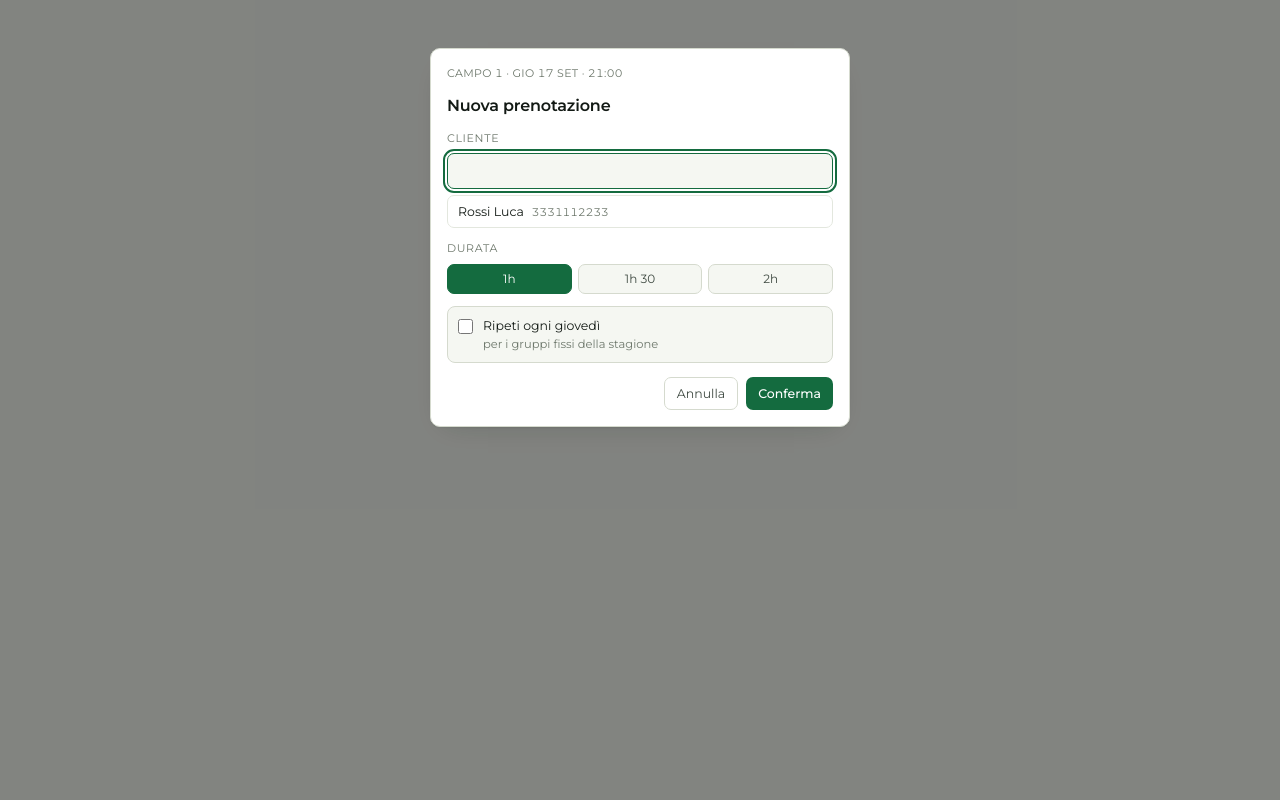
NewBookingDialog — riconoscere chi telefona › scegliendo un cliente mostra la sua scheda
The image size is (1280, 800).
Type "Rossi" into the field labelled "Cliente". click: [640, 171]
box: [447, 153, 833, 189]
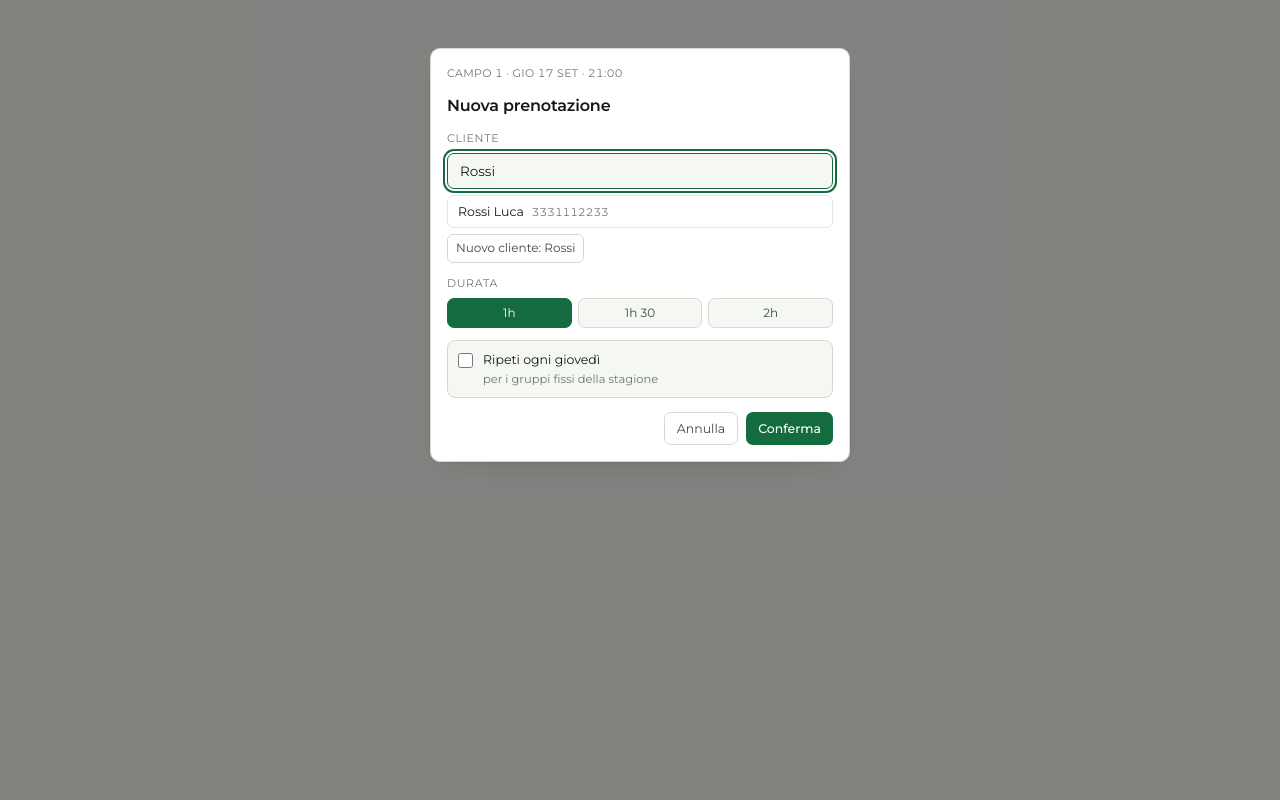
Click the button "Rossi Luca 3331112233". click: [491, 212]
box: [448, 196, 832, 228]
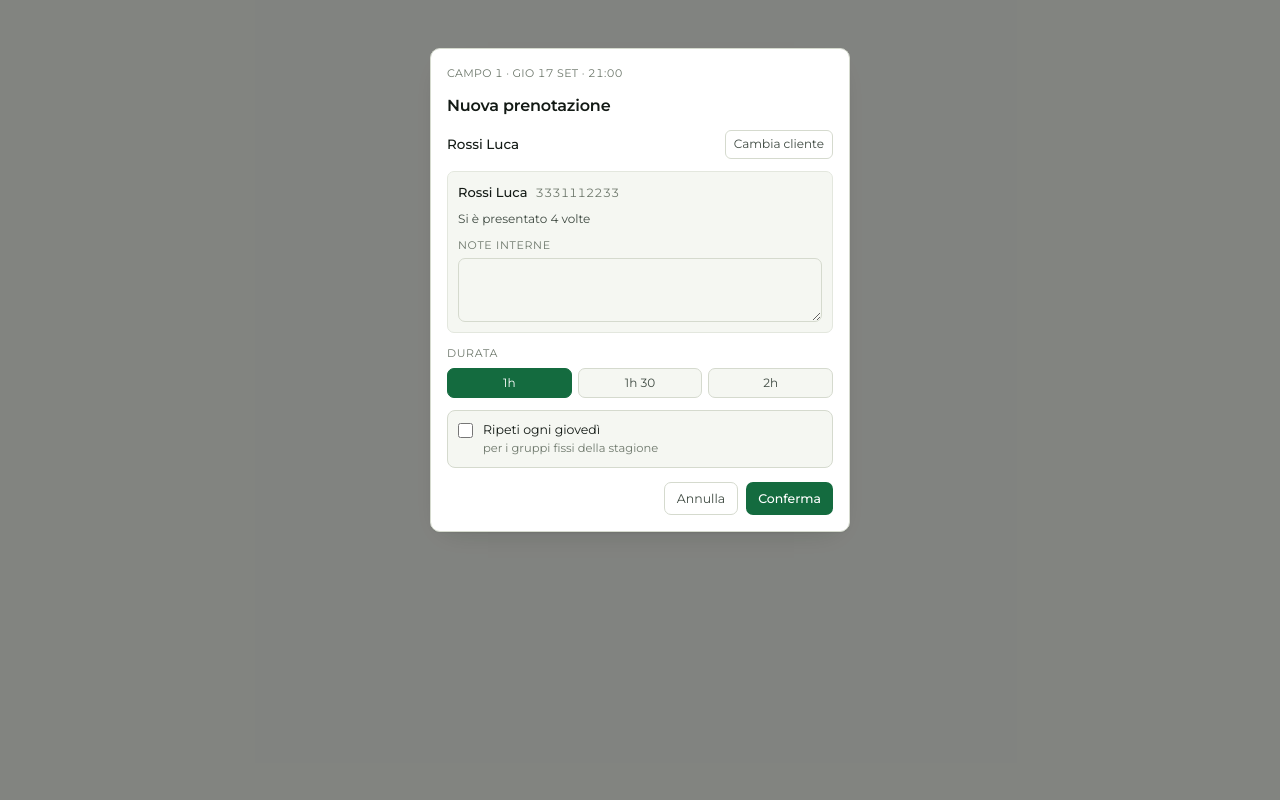
Expected: the text "Si è presentato 4 volte" is shown, [458, 211, 590, 226]
